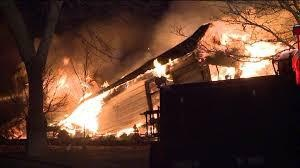fire: (209, 24, 283, 79), (53, 69, 112, 135), (149, 56, 176, 80), (7, 127, 26, 139)
